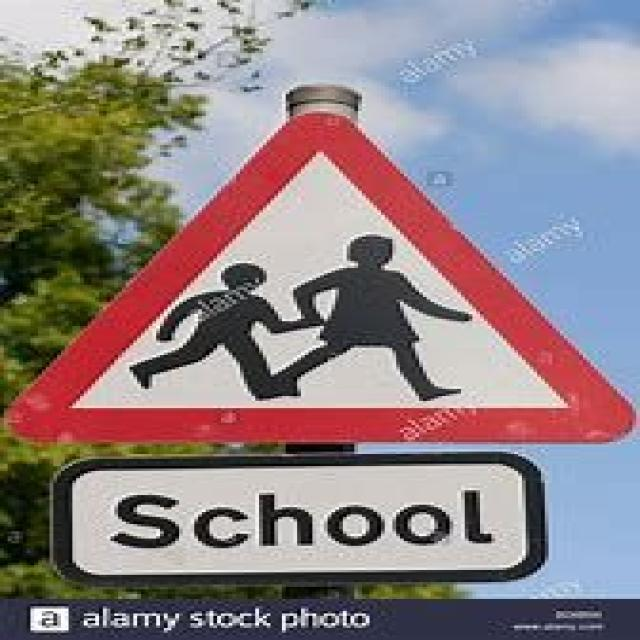SCHOOL_AHEAD: (0, 102, 640, 450)
